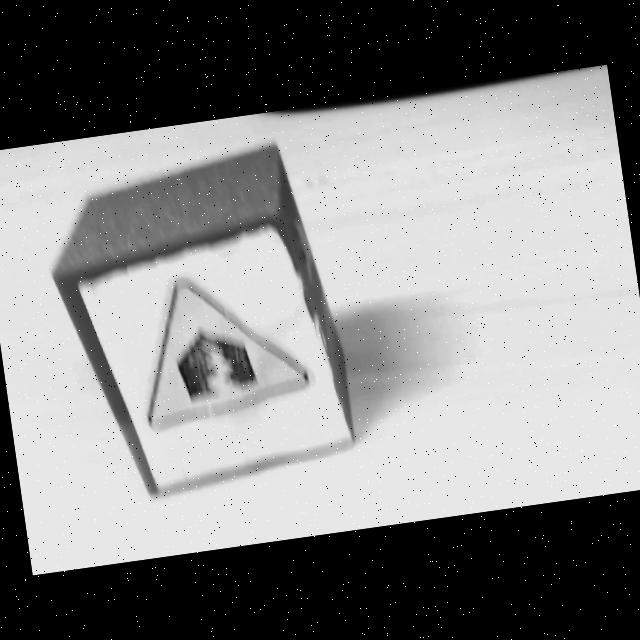Earthquake: (148, 277, 311, 432)
